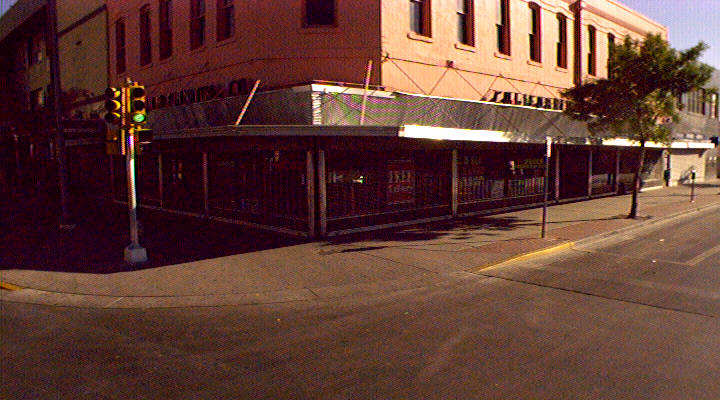Ramp: (1, 224, 519, 308)
